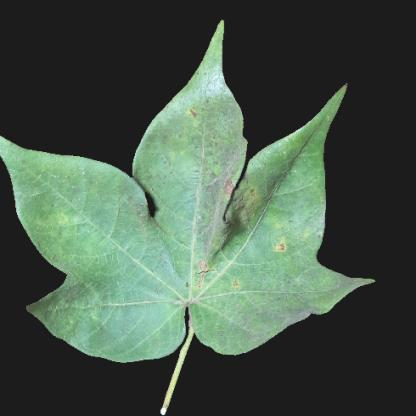curl_stage1: (177, 238, 275, 324), (39, 197, 107, 269), (268, 222, 310, 266), (179, 91, 207, 125)
healthy: (105, 275, 171, 353), (137, 145, 193, 215), (275, 125, 323, 203), (123, 217, 177, 271)
sooty: (198, 145, 244, 239)
